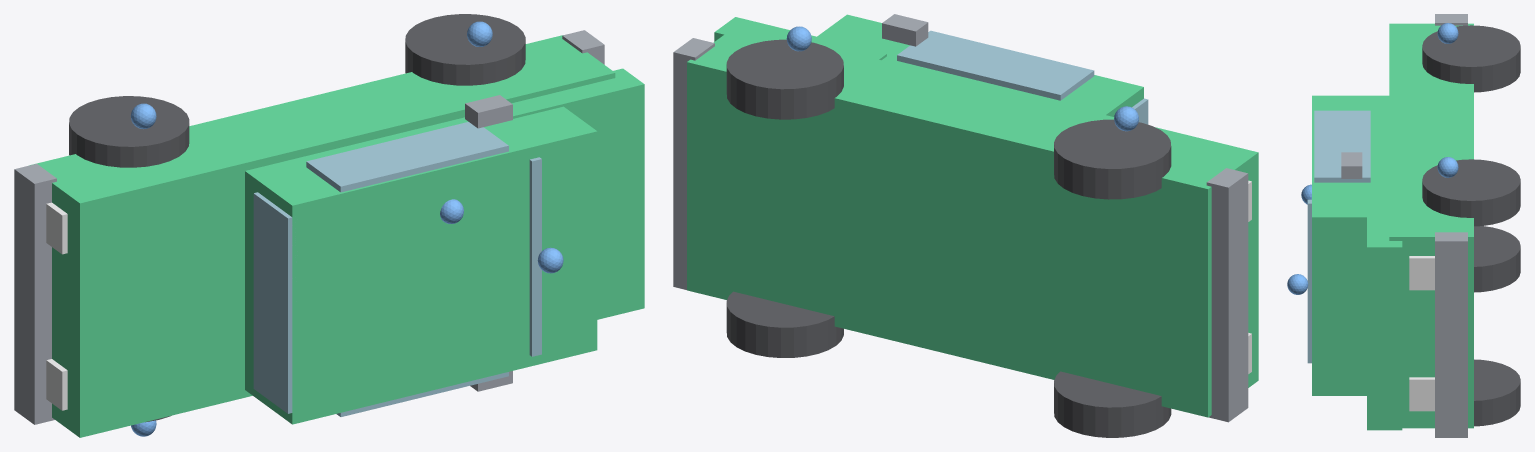
The model's file is passenger_car_inspection.glb.
3 renders of one model, left to right at view 1: azimuth 30°, elevation 25°; view 2: azimuth 150°, elevation 25°; view 3: azimuth 270°, elevation 25°, orthographic. The views are drawn at different scales.
Parts seen in each view (by area): view 1: EXT_cabin, EXT_body, EXT_bonnet, EXT_rear_bumper, EXT_rear_window, EXT_wheel_front_left, EXT_wheel_rear_left, EXT_left_window, EXT_windscreen, EXT_mirror_left, EXT_taillight_left, EXT_taillight_right (+2 smaller); view 2: EXT_body, EXT_rear_bumper, EXT_wheel_front_left, EXT_wheel_rear_left, EXT_left_window, EXT_wheel_front_right, EXT_wheel_rear_right, EXT_cabin, EXT_front_bumper, EXT_bonnet, EXT_mirror_left; view 3: EXT_body, EXT_cabin, EXT_bonnet, EXT_front_bumper, EXT_wheel_front_left, EXT_wheel_rear_left, EXT_left_window, EXT_wheel_front_right, EXT_wheel_rear_right, EXT_headlight_left, EXT_headlight_right, EXT_windscreen (+5 smaller).
Part boxes in pixels (<box>): EXT_cabin: <box>245,106,597,424</box>; EXT_body: <box>29,35,615,437</box>; EXT_bonnet: <box>512,68,644,319</box>; EXT_rear_bumper: <box>14,163,56,424</box>; EXT_rear_window: <box>253,192,292,413</box>; EXT_wheel_front_left: <box>405,14,525,85</box>; EXT_wheel_rear_left: <box>69,96,189,167</box>; EXT_left_window: <box>306,122,508,192</box>; EXT_windscreen: <box>529,157,541,356</box>; EXT_mirror_left: <box>465,95,512,128</box>; EXT_taillight_left: <box>46,202,67,254</box>; EXT_taillight_right: <box>46,359,67,410</box>; EXT_body: <box>687,25,1258,417</box>; EXT_rear_bumper: <box>1206,168,1248,422</box>; EXT_wheel_front_left: <box>726,39,843,119</box>; EXT_wheel_rear_left: <box>1054,119,1171,199</box>; EXT_left_window: <box>897,30,1094,100</box>; EXT_wheel_front_right: <box>726,291,843,357</box>; EXT_wheel_rear_right: <box>1054,371,1171,437</box>; EXT_cabin: <box>817,14,1143,116</box>; EXT_front_bumper: <box>673,38,714,289</box>; EXT_bonnet: <box>714,17,886,60</box>; EXT_mirror_left: <box>882,14,928,46</box>; EXT_body: <box>1389,23,1473,428</box>; EXT_cabin: <box>1312,95,1389,395</box>; EXT_bonnet: <box>1367,185,1402,430</box>; EXT_front_bumper: <box>1435,232,1467,437</box>; EXT_wheel_front_left: <box>1422,159,1520,226</box>; EXT_wheel_rear_left: <box>1422,25,1520,92</box>; EXT_left_window: <box>1314,110,1370,182</box>; EXT_wheel_front_right: <box>1474,359,1520,426</box>; EXT_wheel_rear_right: <box>1474,226,1520,292</box>; EXT_headlight_left: <box>1409,256,1434,290</box>; EXT_headlight_right: <box>1409,377,1434,411</box>; EXT_windscreen: <box>1307,199,1311,363</box>.
Bounding box in the file's own units: 4.58 × 2.54 × 1.99.
